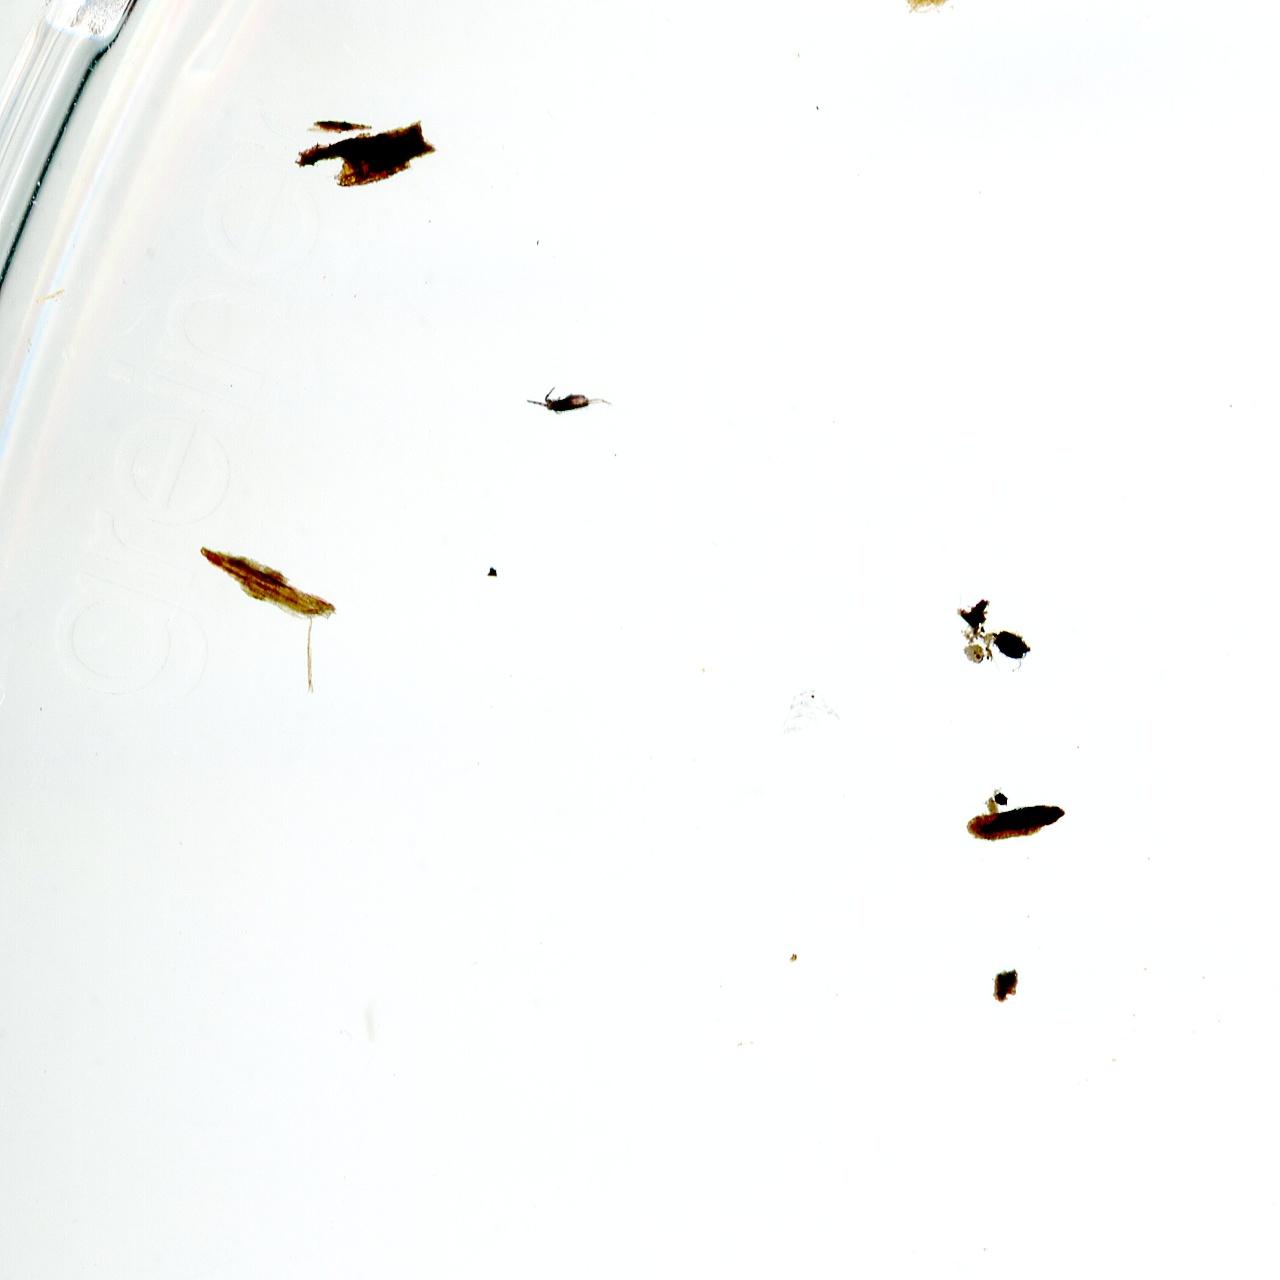arthropod: (525, 383, 617, 418)
